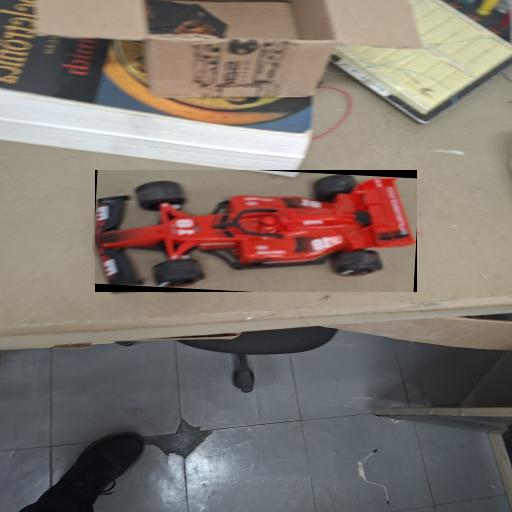carro: (95, 171, 415, 291)
